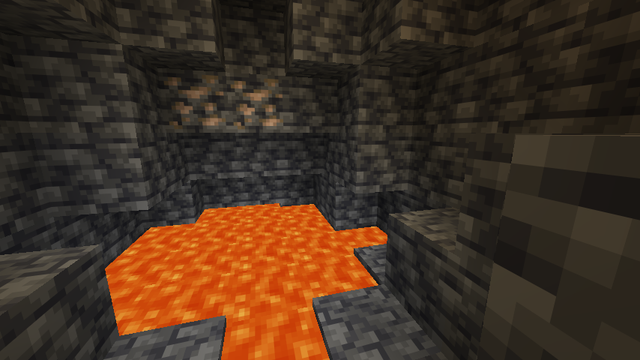iron: (158, 65, 290, 135)
